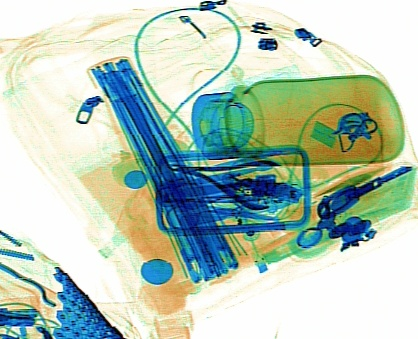scissors: (165, 182, 270, 229)
